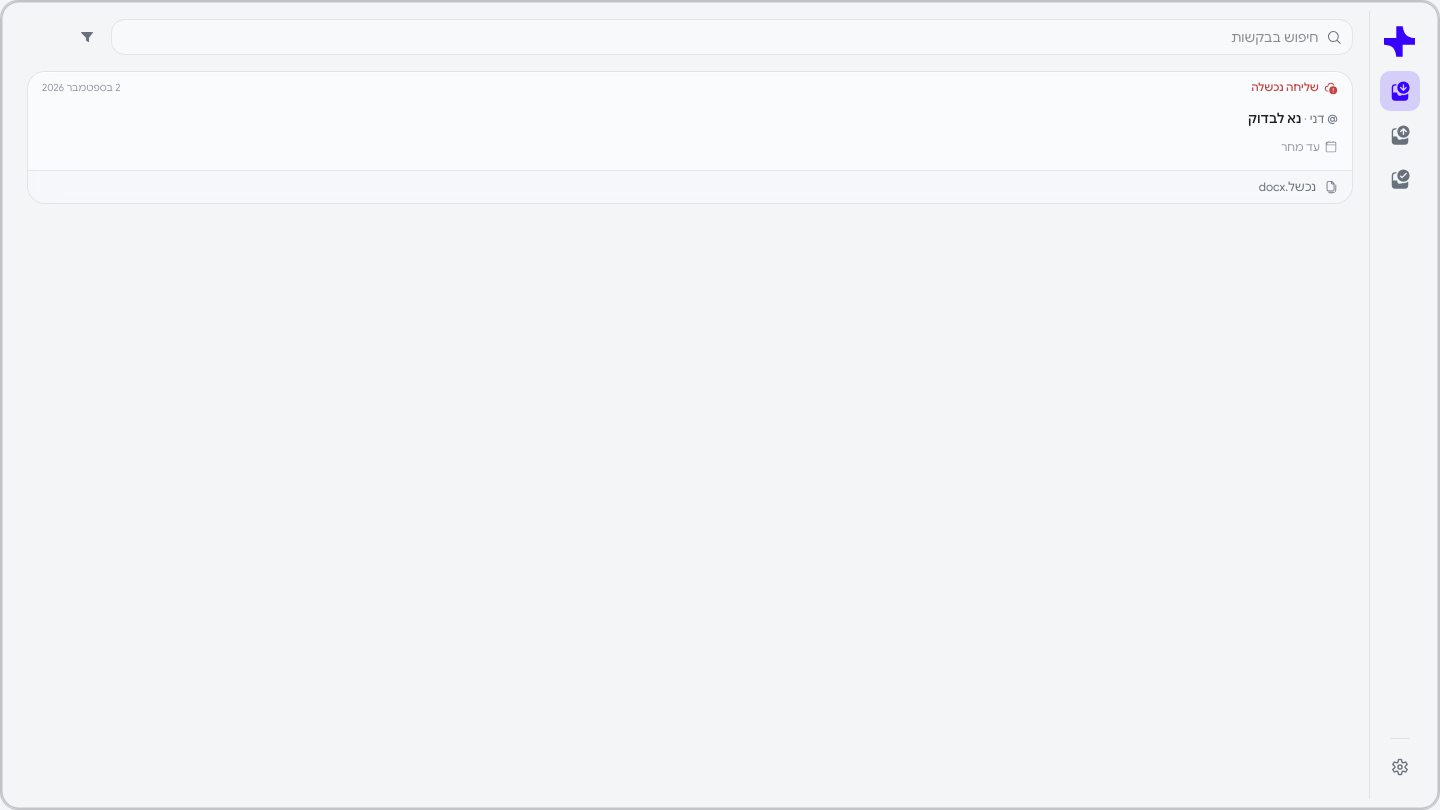
Test: WorkspaceReadyScreen › does not show failed handoffs in the done view
Click the tab named "הושלם". click: (1400, 179)
box: 1380,159 -> 1420,199
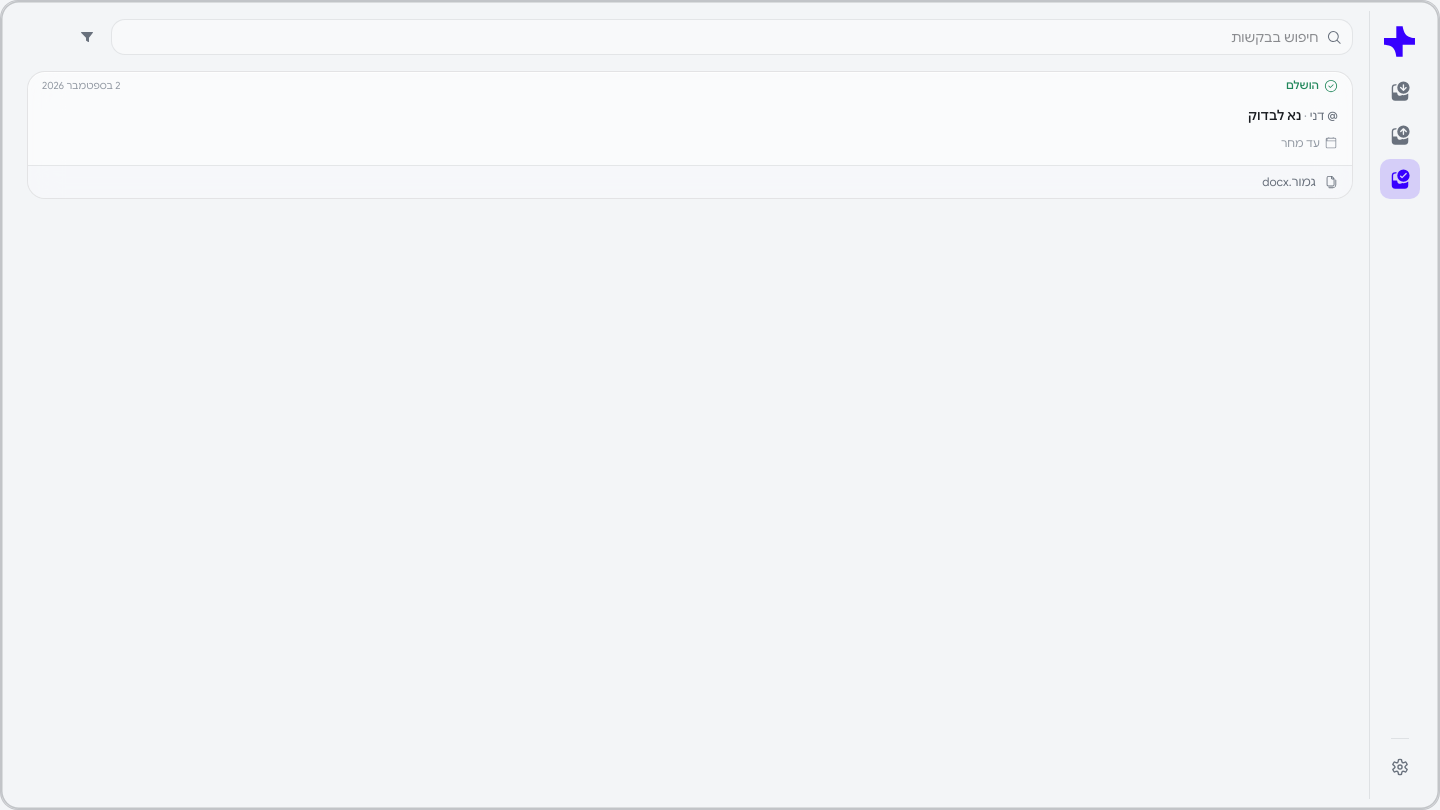
Check: the text "גמור.docx" is shown, box 1262,174 -> 1316,190
Check: the text "נכשל.docx" is gone
